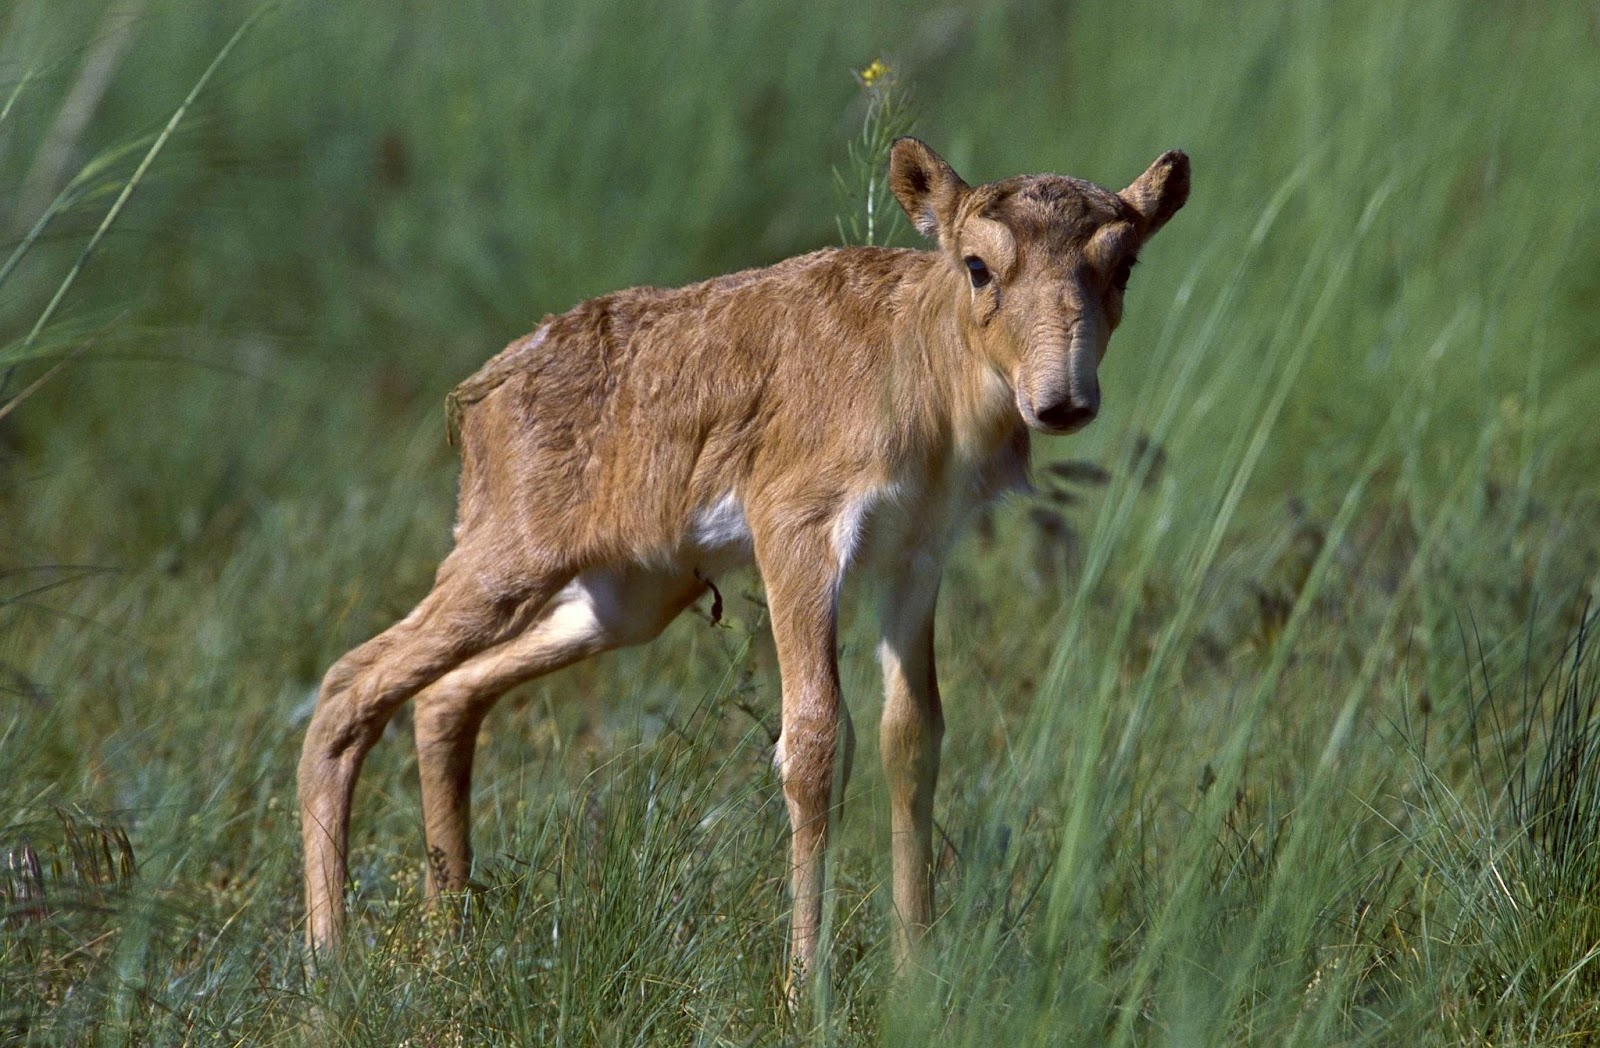saiga: (295, 140, 1192, 997)
